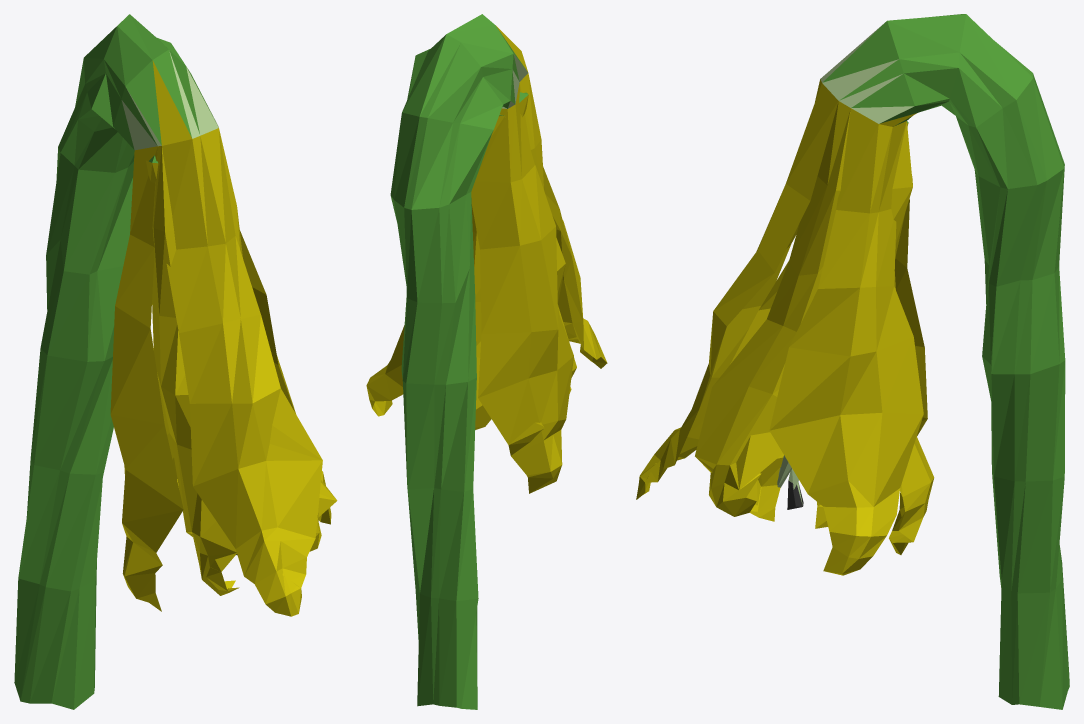
File: stm_env_Wilted_Lily-001.fbx
3 views of the same model, side by side, from view 1: azimuth 30°, elevation 25°; view 2: azimuth 150°, elevation 25°; view 3: azimuth 270°, elevation 25° (orthographic). The views are drawn at different scales.
Parts seen in each view (by area): view 1: stm_env_Wilted_Lily_001; view 2: stm_env_Wilted_Lily_001; view 3: stm_env_Wilted_Lily_001.
Part boxes in pixels (box(x1,y1,x2,y2)): stm_env_Wilted_Lily_001: box(14, 14, 337, 709); stm_env_Wilted_Lily_001: box(366, 14, 607, 709); stm_env_Wilted_Lily_001: box(636, 14, 1069, 709).
Bounding box in the file's own units: 107 × 336 × 188.
